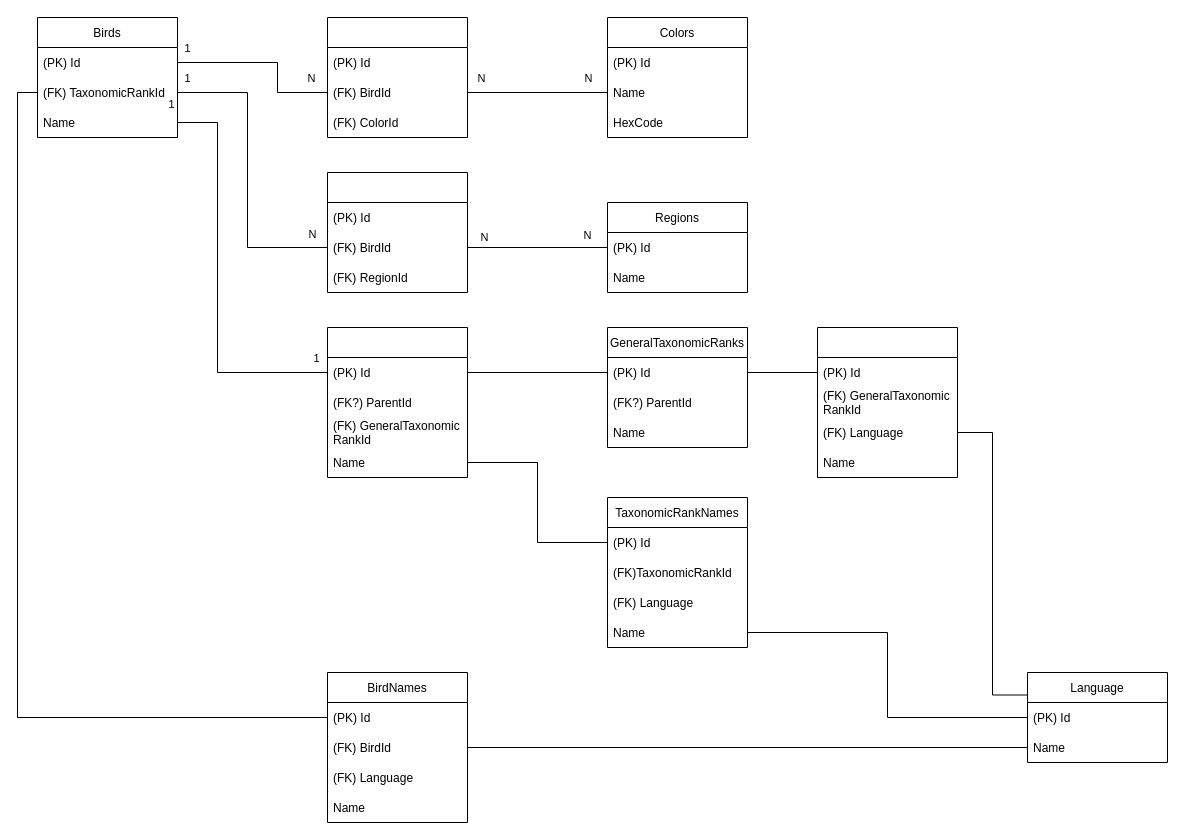
The diagram is 1185 pixels wide and 840 high, and some of its shapes have lost their labels. Each missing label, with the box of its shape:
BirdColors: (326, 16, 468, 138)
BirdHabitat: (326, 172, 468, 292)
GeneralTaxonomic RankNames: (816, 326, 958, 478)
TaxonomicRanks: (326, 326, 468, 478)
